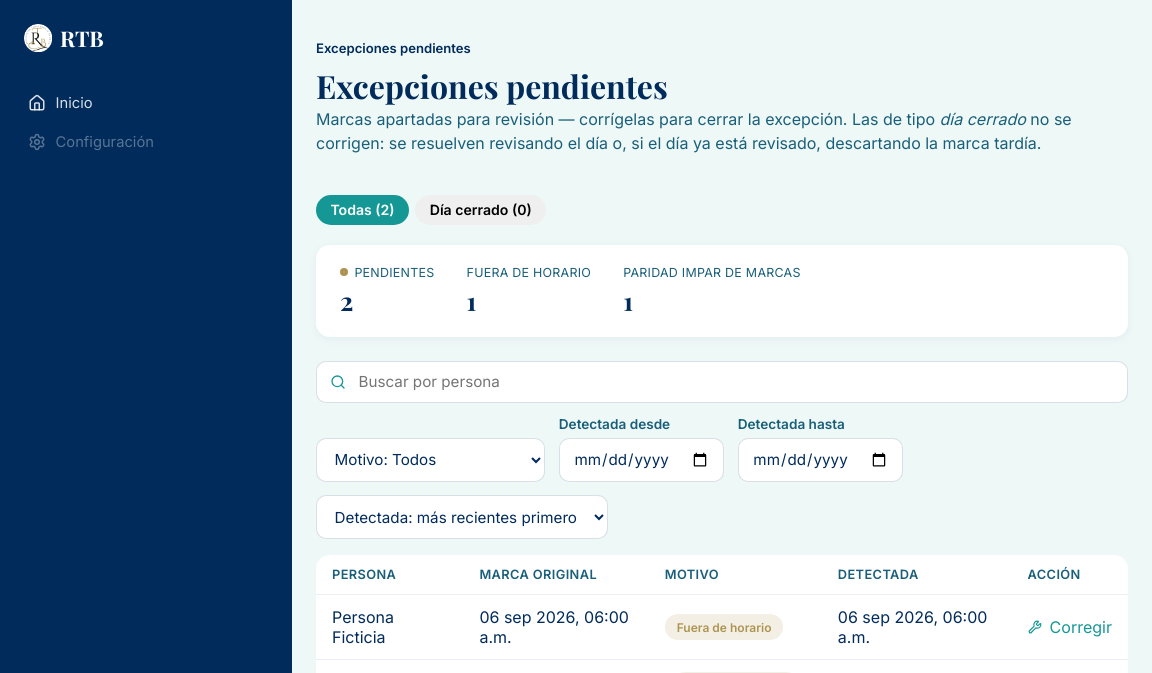
Test case: ColaExcepcionesPage › excepciones de día cerrado › pestaña Día cerrado sin pendientes muestra su estado vacío
Click the tab "Día cerrado (0)".
click(481, 210)  # box [415,195,546,225]
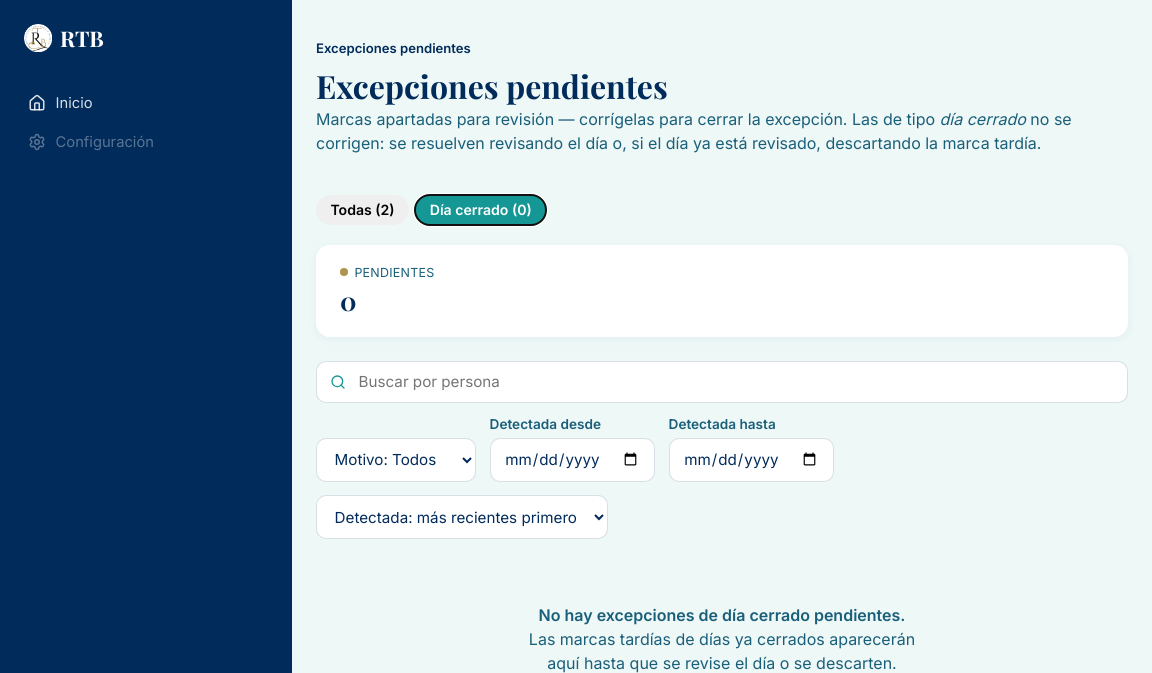
Now the text "No hay excepciones de día cerrado pendientes." is shown, box [538,605,905,625]
